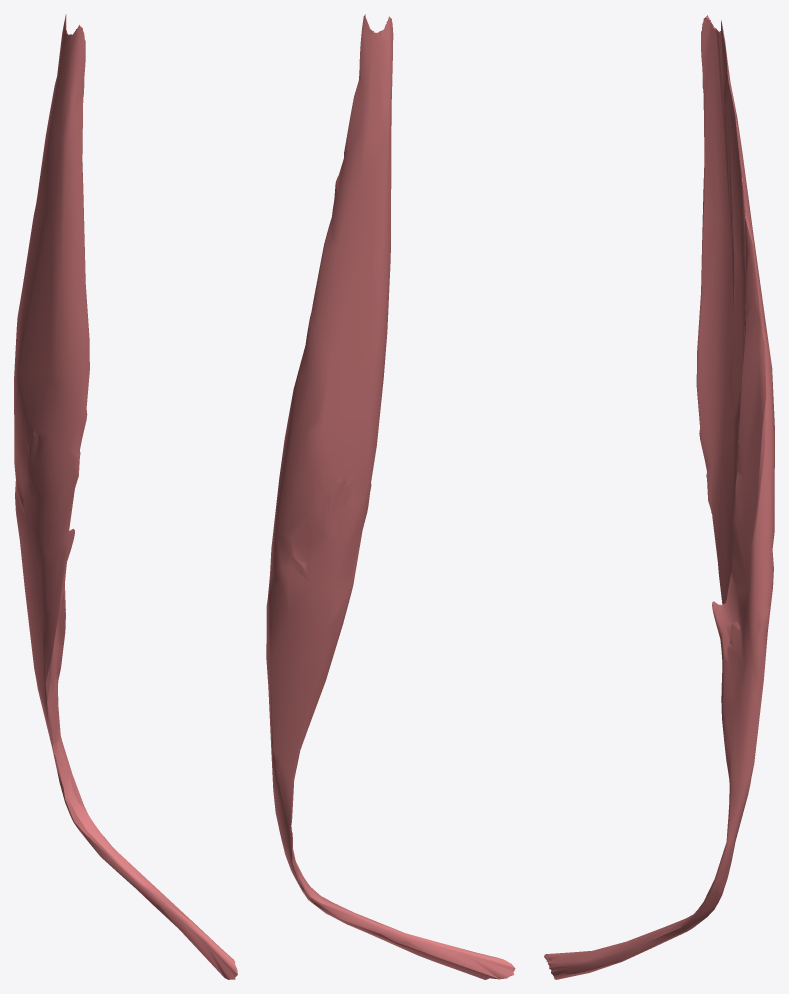
The picture shows the model from 3 angles, left to right: view 1: azimuth 90°, elevation 25°; view 2: azimuth 150°, elevation 25°; view 3: azimuth 270°, elevation 25°; orthographic projection. The views are drawn at different scales.
Parts seen in each view (by area): view 1: FJ1409; view 2: FJ1409; view 3: FJ1409.
Part boxes in pixels (left/top/right/bottom): FJ1409: left=14, top=14, right=237, bottom=979; FJ1409: left=266, top=14, right=515, bottom=979; FJ1409: left=544, top=15, right=774, bottom=979.
Size of the model in its own units: 0.0354 by 0.2434 by 0.0522.
